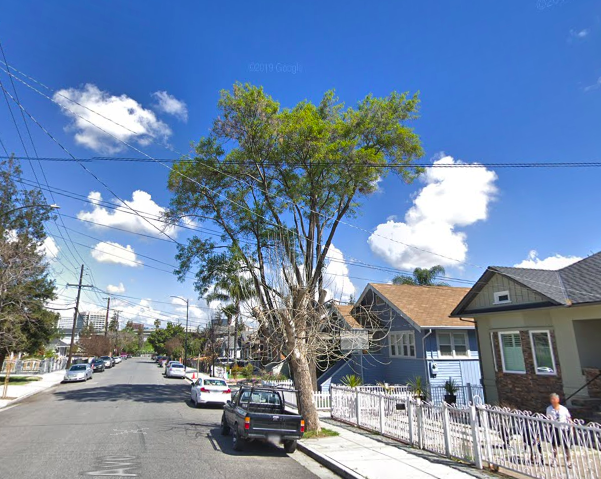tree: (156, 79, 426, 432)
